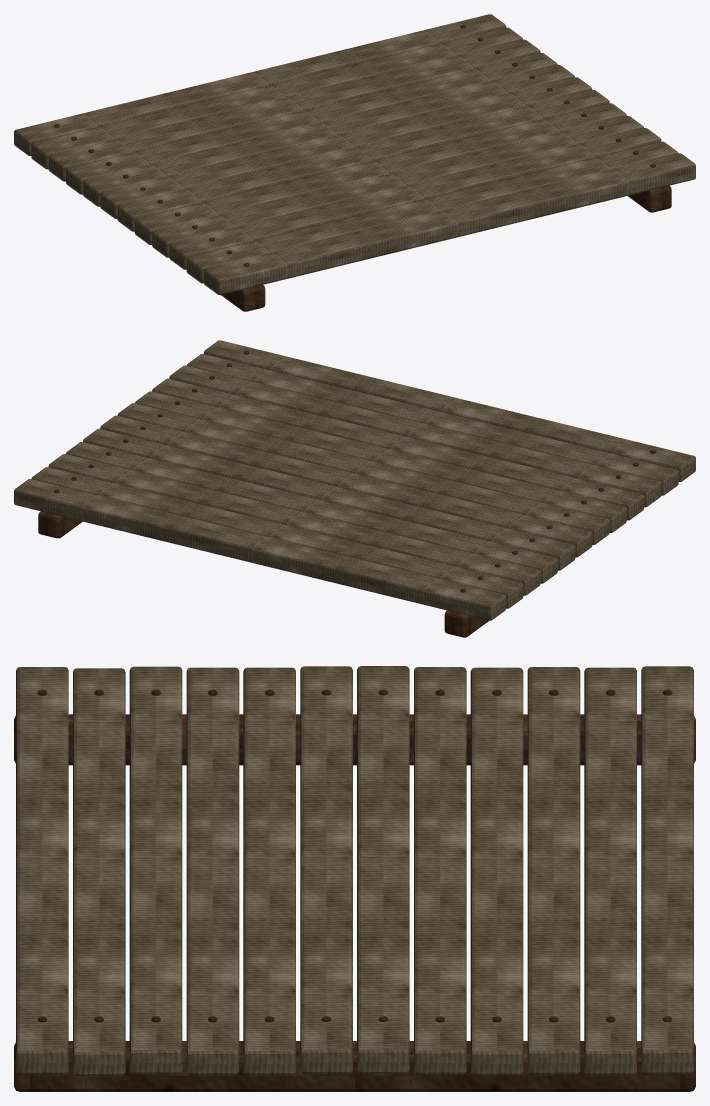
3 renders of one model, top to bottom at view 1: azimuth 30°, elevation 25°; view 2: azimuth 150°, elevation 25°; view 3: azimuth 270°, elevation 25°, orthographic. The views are drawn at different scales.
Visible parts, largest first — view 1: Coast_bridge; view 2: Coast_bridge; view 3: Coast_bridge.
Boxes of the visible parts, <box> form: Coast_bridge: <box>14,14,695,311</box>; Coast_bridge: <box>14,340,695,637</box>; Coast_bridge: <box>14,666,695,1091</box>.
Size of the model in its own units: 4 by 0.327 by 3.
Materials: 2 (2 with a texture image).
